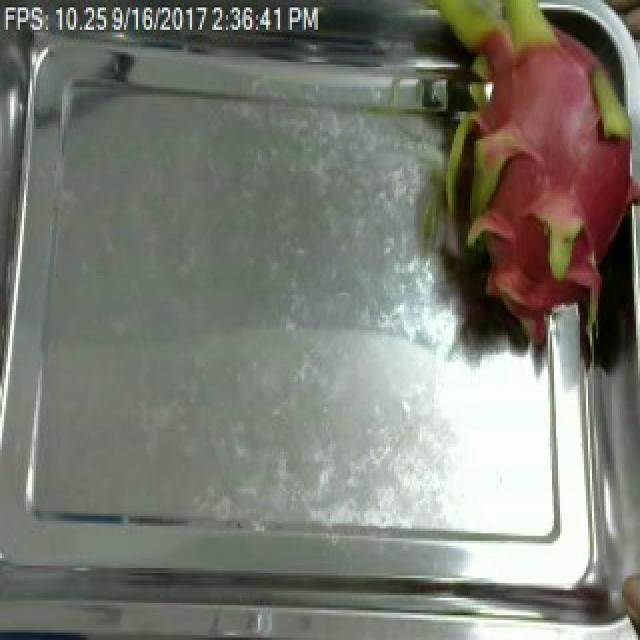fruit: (364, 0, 640, 372)
